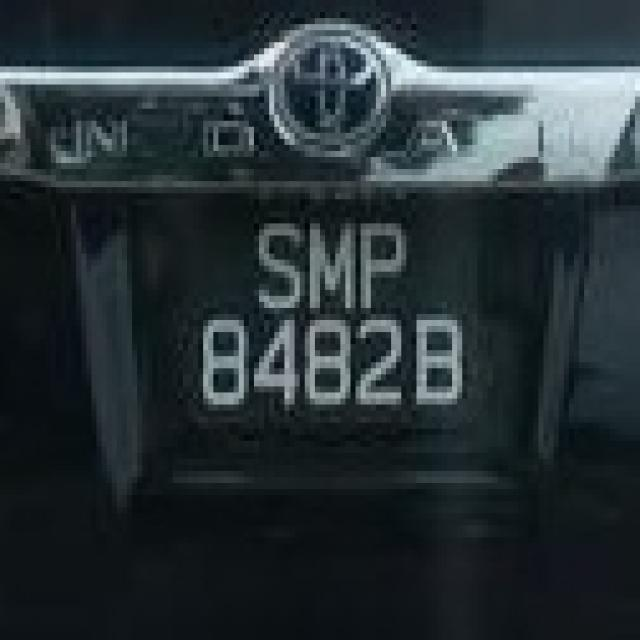2: (356, 320, 404, 409)
4: (254, 314, 301, 416)
8: (201, 315, 248, 414), (306, 317, 353, 410)
B: (413, 314, 466, 407)
M: (308, 220, 356, 316)
P: (355, 219, 411, 314)
S: (250, 219, 306, 313)
